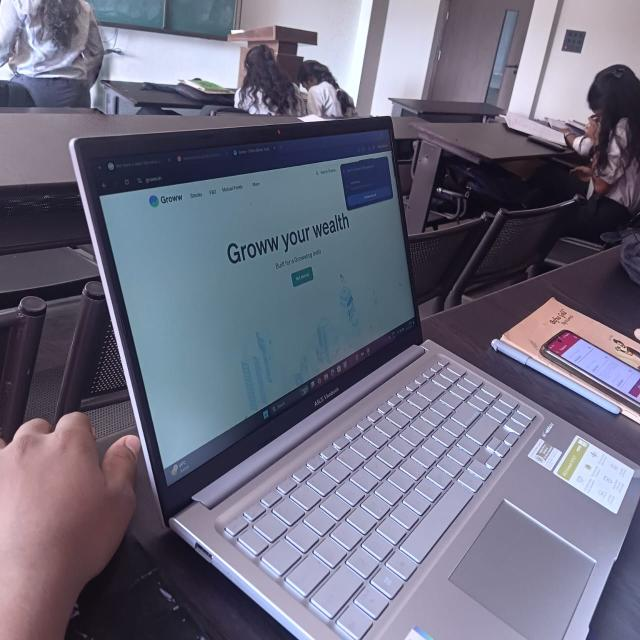laptop: (67, 90, 621, 640)
